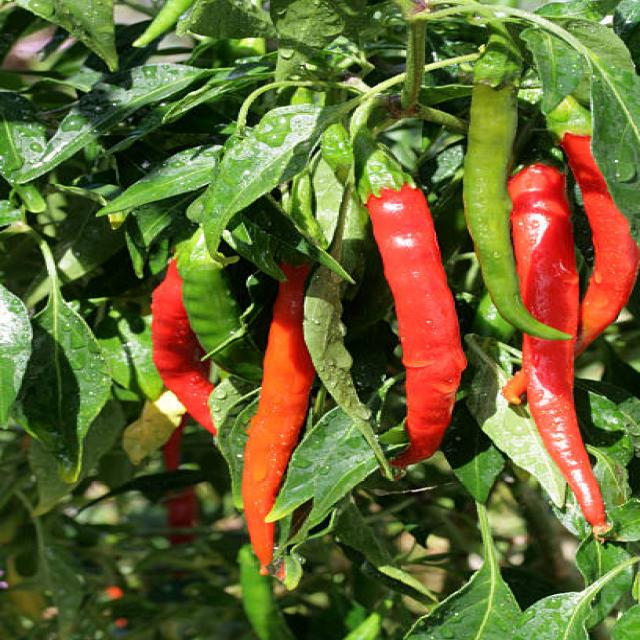Ripe: (507, 156, 599, 524), (367, 184, 466, 473), (243, 265, 314, 570), (560, 133, 638, 356), (152, 260, 215, 434)
Unripe: (463, 83, 571, 341), (175, 244, 261, 385)
